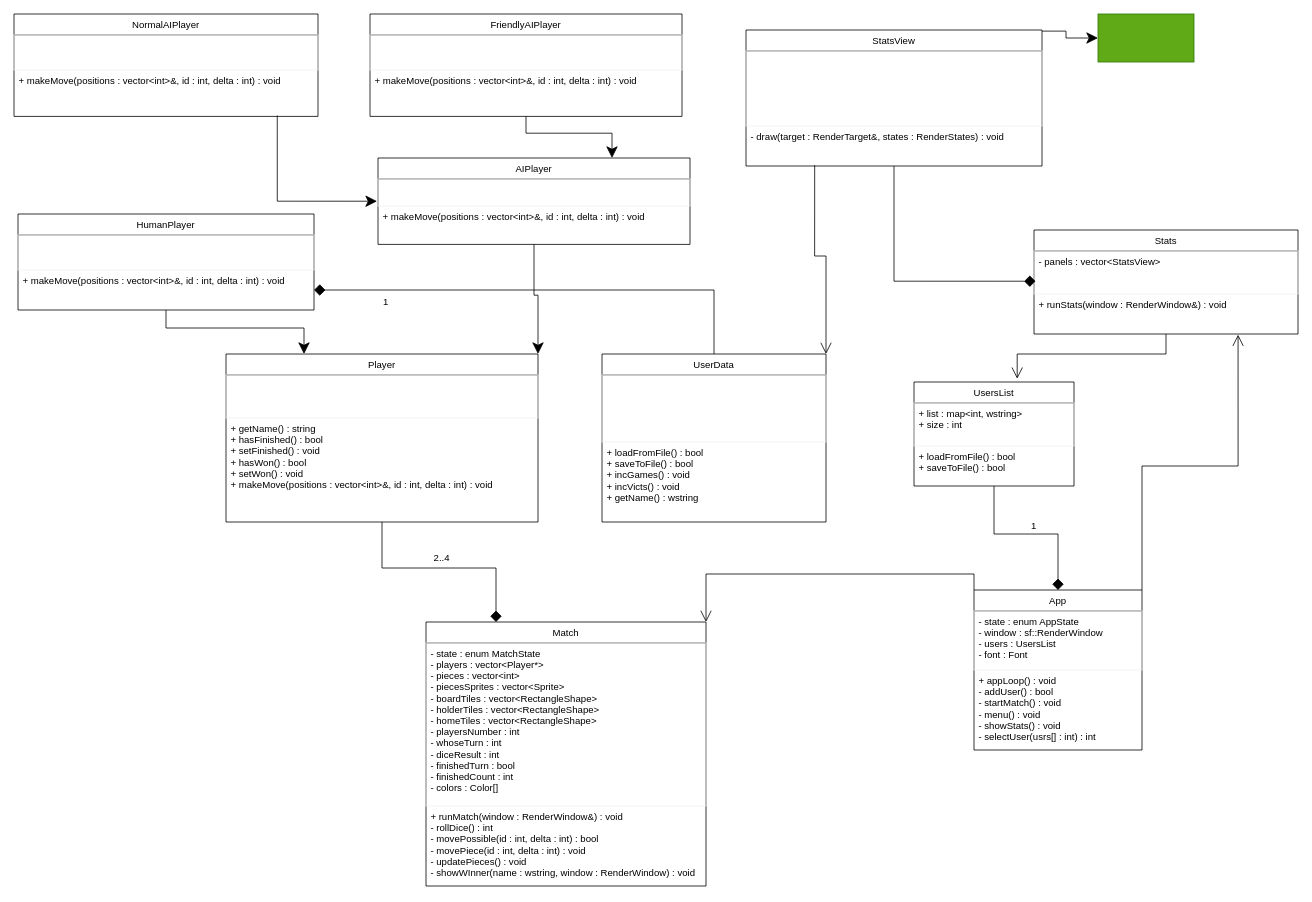
Some shapes in this 1312 by 902 pixel diagram are drawn without their labels. The centre of each missing label's shape, as x and y in pixels:
"# name : string # won : bool # finished : bool" goes at (x=381, y=396).
"- data : UserData*" goes at (x=165, y=252).
"- font : Font - name : Text - played : Text - won : Text - percentage : Text" goes at (x=893, y=88).
"- id : int - name : string - gamesNumber : int - victoriesNumber : int" goes at (x=713, y=408).
"Drawable" goes at (x=1145, y=37).
